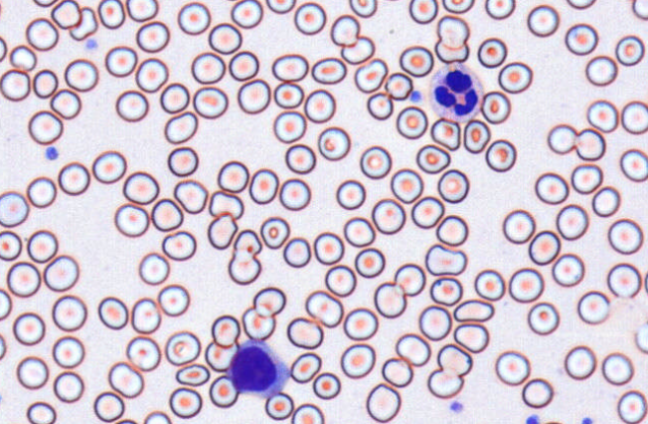GRAN: (426, 62, 485, 121)
MONO: (230, 339, 295, 400)
PLT: (447, 400, 467, 414), (84, 36, 101, 51), (409, 88, 423, 103), (43, 147, 59, 160), (525, 414, 540, 424), (578, 416, 593, 424)
RBC: (365, 382, 401, 422), (305, 290, 343, 327), (107, 361, 144, 398), (51, 294, 87, 331), (43, 254, 79, 291), (607, 218, 643, 254), (164, 330, 200, 366), (27, 109, 63, 145), (125, 335, 161, 371), (494, 350, 530, 385), (173, 178, 208, 214), (508, 267, 544, 302), (606, 262, 641, 298), (122, 170, 159, 204), (114, 202, 149, 237), (340, 343, 375, 378), (6, 261, 40, 297), (371, 198, 405, 234), (395, 332, 431, 366), (418, 304, 452, 340), (373, 281, 406, 318), (286, 316, 323, 349), (555, 203, 588, 240), (436, 343, 472, 376), (237, 78, 270, 114), (192, 86, 228, 119), (427, 367, 464, 399), (227, 251, 261, 285), (135, 57, 168, 92), (390, 168, 423, 203), (343, 307, 378, 340), (354, 58, 387, 93), (91, 150, 126, 183), (551, 252, 584, 287), (502, 209, 535, 244), (130, 297, 161, 334), (241, 307, 275, 340), (150, 197, 183, 231), (410, 195, 444, 228), (12, 311, 45, 345), (57, 161, 90, 195), (317, 126, 350, 160), (64, 58, 98, 91), (577, 290, 610, 324), (191, 51, 225, 84), (293, 1, 326, 35), (177, 1, 210, 35), (437, 168, 469, 203), (528, 230, 560, 265), (564, 345, 596, 380), (497, 61, 532, 93), (157, 283, 190, 316), (25, 17, 58, 50), (273, 110, 306, 143), (115, 89, 148, 122), (164, 111, 197, 144), (526, 4, 559, 37), (437, 15, 469, 49), (16, 355, 48, 389), (26, 229, 58, 263), (359, 145, 391, 179), (395, 105, 427, 139), (135, 20, 169, 52), (208, 22, 242, 54), (534, 172, 568, 204), (168, 386, 202, 418), (399, 45, 433, 77), (527, 301, 559, 335), (564, 23, 598, 55), (161, 230, 196, 261), (304, 88, 335, 123), (248, 168, 278, 204), (0, 190, 29, 227), (271, 53, 308, 82), (324, 264, 356, 297), (393, 263, 425, 296), (435, 214, 468, 246), (217, 160, 249, 193), (52, 335, 84, 368), (104, 45, 137, 77), (601, 352, 633, 385), (473, 268, 505, 301), (586, 99, 618, 132), (97, 296, 128, 330), (313, 231, 344, 265), (485, 138, 516, 172), (415, 143, 450, 173), (252, 286, 285, 317), (259, 216, 290, 249), (138, 252, 169, 285), (53, 370, 84, 403), (570, 163, 603, 194), (279, 177, 310, 210), (208, 374, 238, 408), (575, 127, 605, 161), (480, 90, 510, 124), (289, 352, 321, 383), (343, 216, 375, 247), (381, 356, 413, 387), (284, 143, 316, 174), (521, 377, 553, 408), (49, 88, 81, 119), (585, 55, 617, 86), (0, 68, 30, 101), (210, 314, 240, 347), (617, 390, 647, 423), (340, 35, 374, 64), (311, 56, 346, 84), (354, 247, 385, 278), (93, 391, 124, 422), (228, 50, 259, 81), (167, 146, 198, 177), (26, 176, 56, 208), (330, 14, 359, 47), (429, 276, 462, 305), (619, 148, 647, 182), (463, 118, 490, 153), (547, 123, 577, 154), (159, 82, 189, 113), (477, 37, 507, 68), (282, 236, 311, 268), (591, 185, 620, 217), (615, 34, 644, 66), (230, 0, 263, 28), (335, 179, 365, 209), (50, 0, 81, 29), (621, 100, 647, 134), (232, 228, 262, 257), (384, 71, 413, 100), (264, 391, 293, 420), (97, 0, 125, 29), (273, 81, 303, 108), (175, 363, 210, 386), (312, 371, 340, 399), (366, 91, 393, 120), (32, 68, 58, 98), (408, 0, 437, 24), (125, 0, 158, 21), (0, 229, 22, 260), (26, 401, 56, 423), (291, 403, 324, 423), (484, 0, 515, 19), (348, 0, 377, 18), (265, 0, 296, 14), (441, 0, 474, 13), (0, 287, 12, 320), (635, 321, 647, 353), (143, 410, 171, 423), (632, 0, 648, 19), (566, 0, 596, 9), (0, 35, 7, 62), (32, 0, 57, 7), (0, 333, 6, 359), (113, 418, 137, 424), (644, 268, 648, 295), (540, 420, 564, 424), (0, 0, 3, 23)
Schistocyte: (423, 243, 468, 277), (451, 322, 493, 355), (66, 6, 99, 42), (202, 339, 239, 371), (208, 190, 246, 220), (453, 297, 496, 323), (207, 214, 238, 250), (431, 118, 460, 151), (435, 39, 472, 64), (10, 44, 37, 71)
